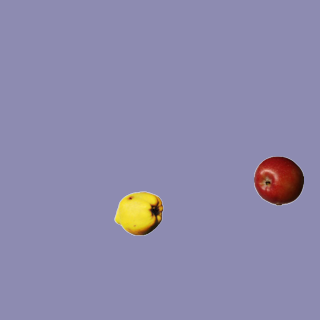Apple Braeburn: (253, 155, 303, 205)
Quince: (113, 188, 163, 238)
